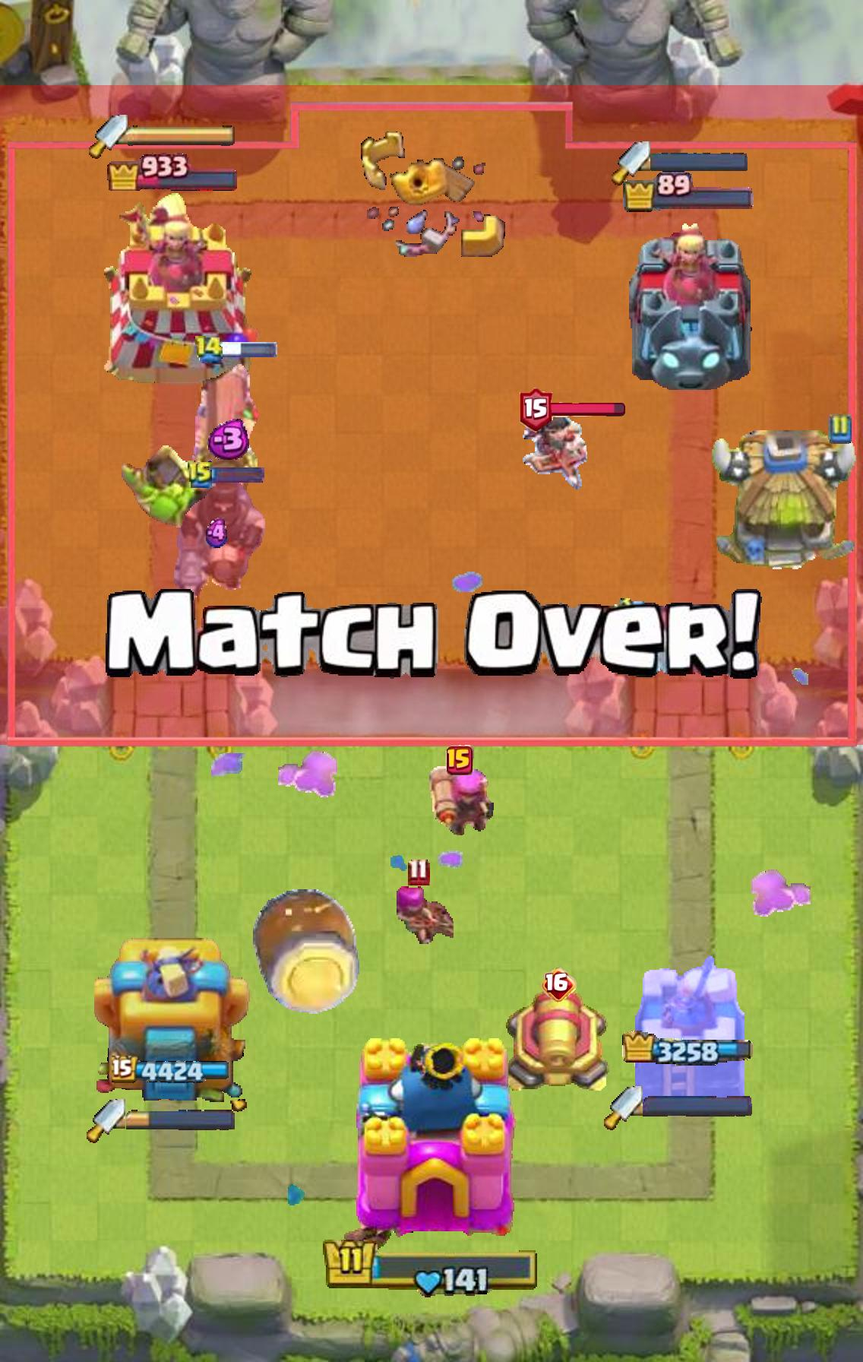bar: (550, 402, 626, 417)
bar-level: (520, 387, 553, 432), (541, 968, 577, 1002), (446, 745, 474, 775), (407, 857, 430, 886)
